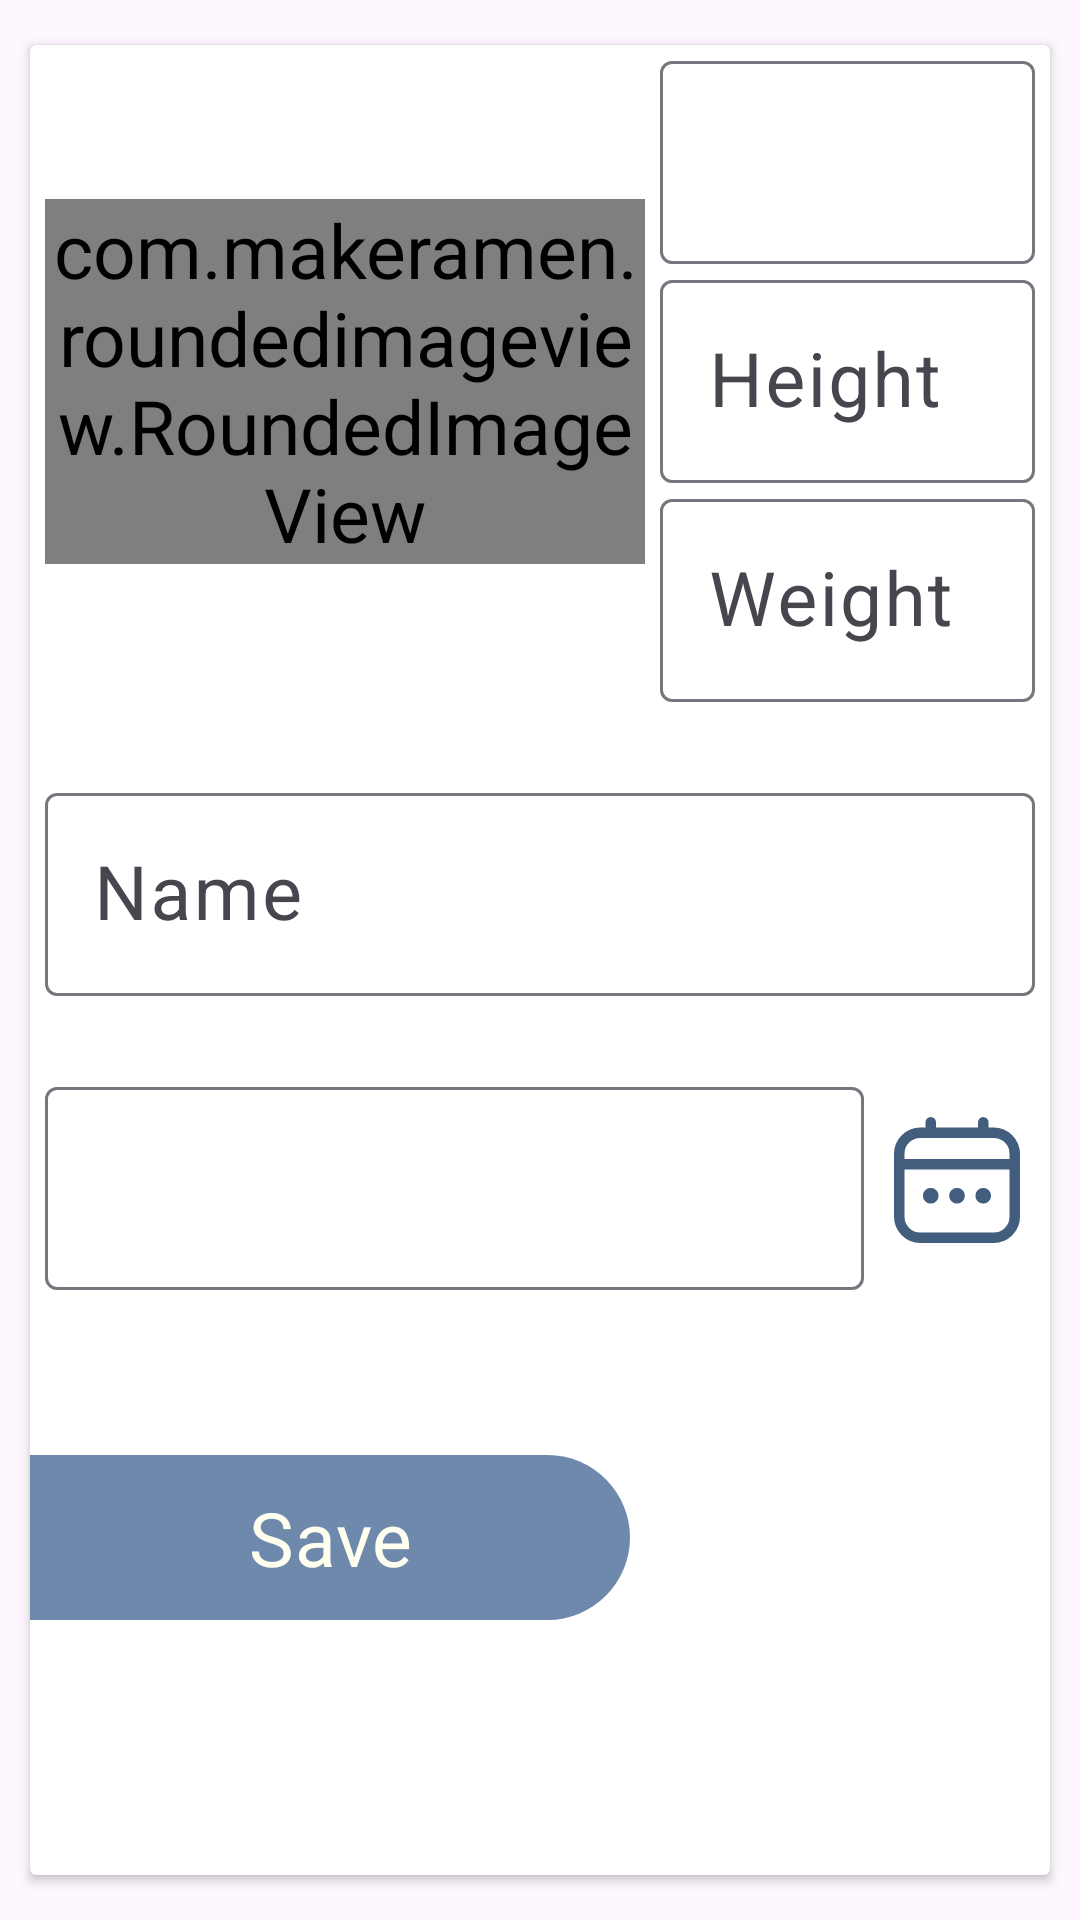

Named icons in this screenshot (1080px x 1920px) and their centers, point (x, y):
calendar: point (957, 1180)
